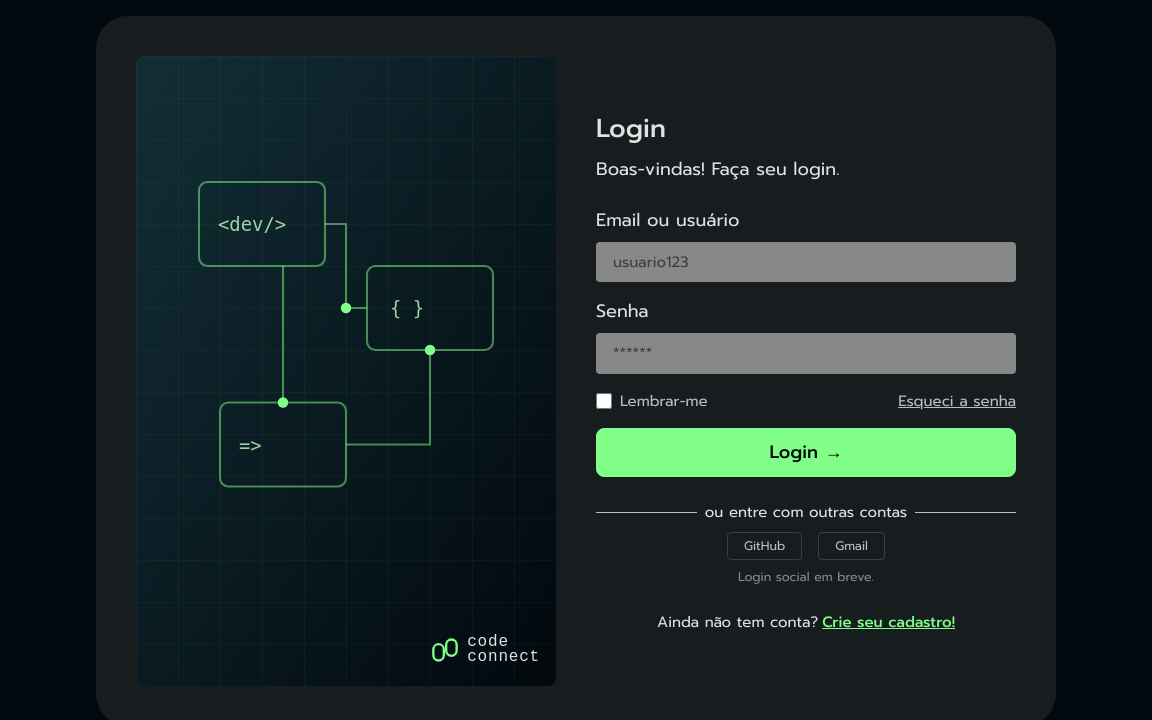
Test: Página de Login › mostra erro com senha incorreta
Type "milena" into the field labelled "Email ou usuário" at (806, 262), box [596,242,1016,282]
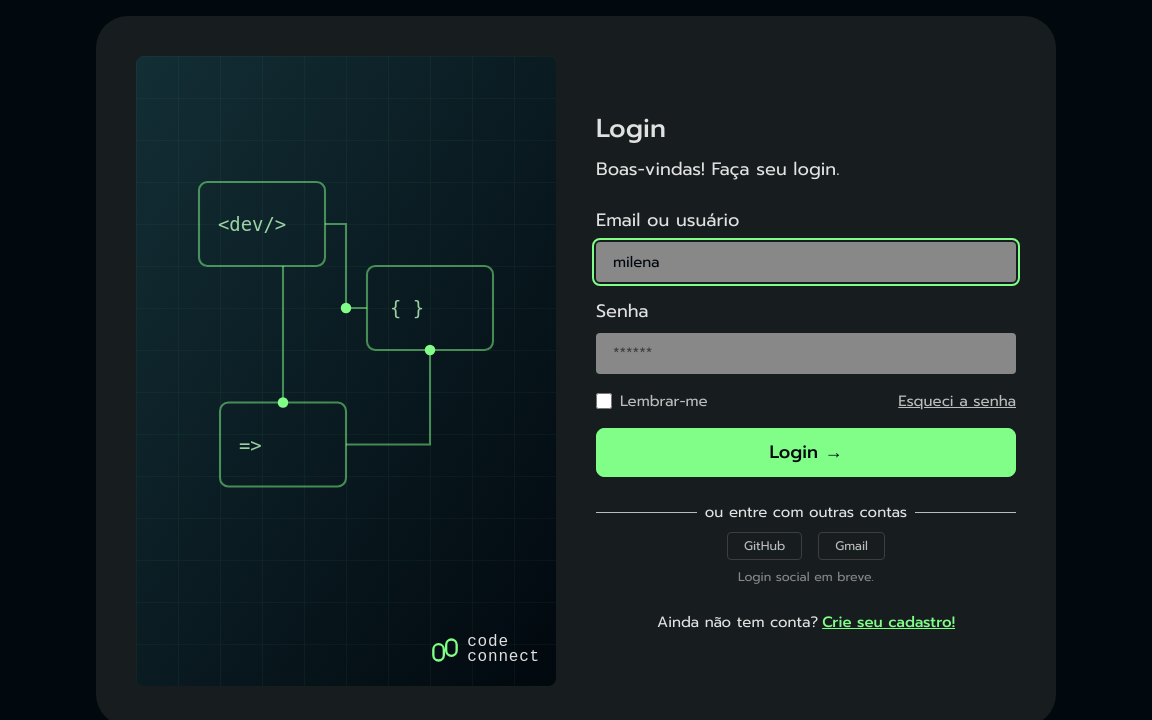
Type "errada1" into the password field labelled "Senha" at (806, 353), box [596,333,1016,374]
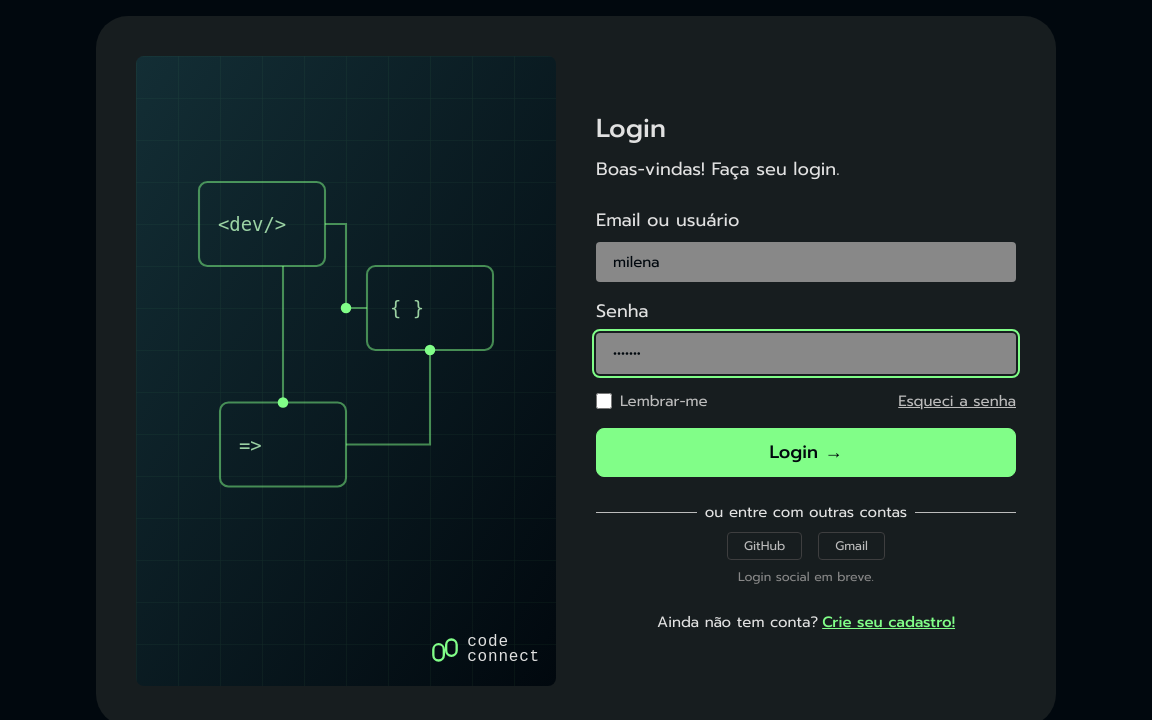
Click the button "Login →" at (806, 452), box [596,428,1016,477]
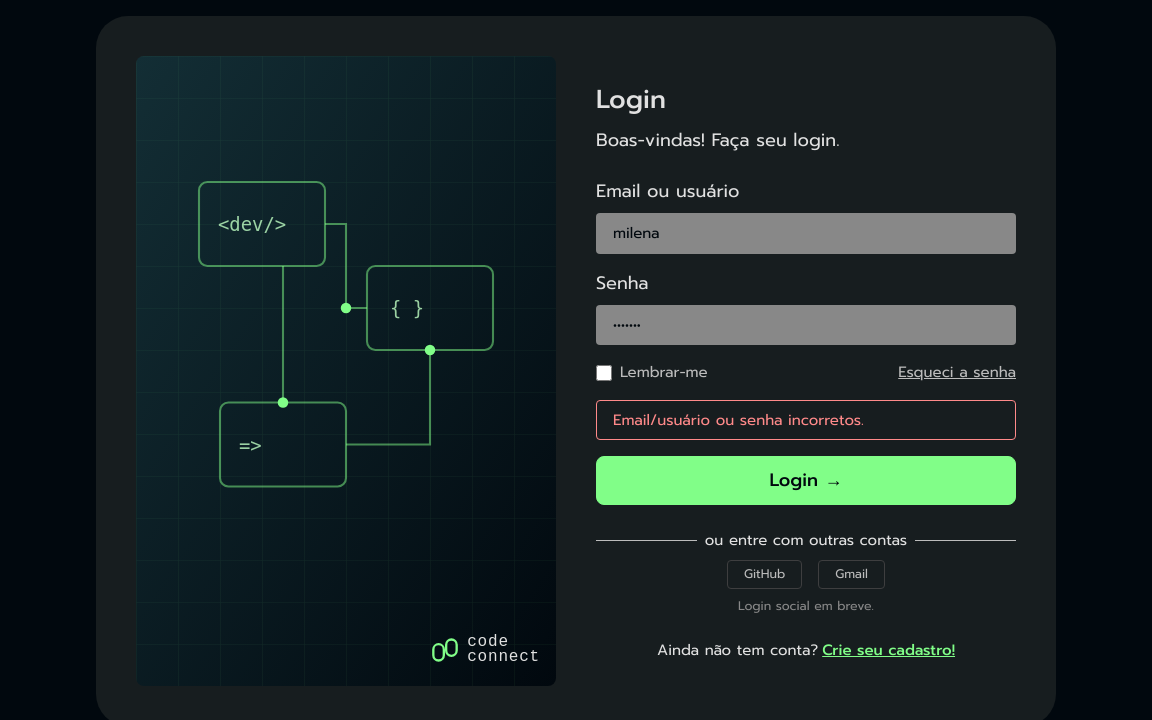
Result: the text "Email/usuário ou senha incorretos." is shown at [596,400,1016,440]
